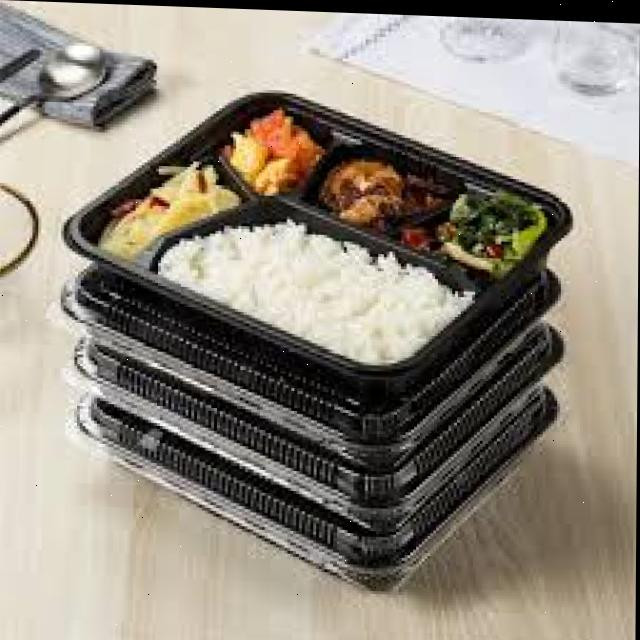disposable: (79, 55, 579, 404)
